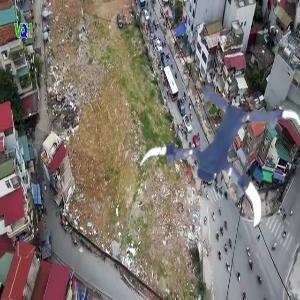drone: (141, 81, 295, 235)
